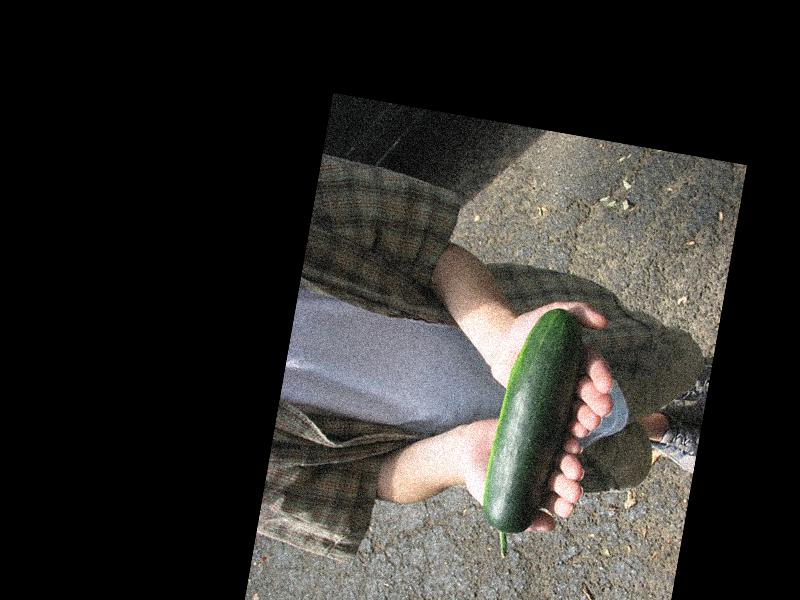Cucumber: (473, 302, 589, 567)
